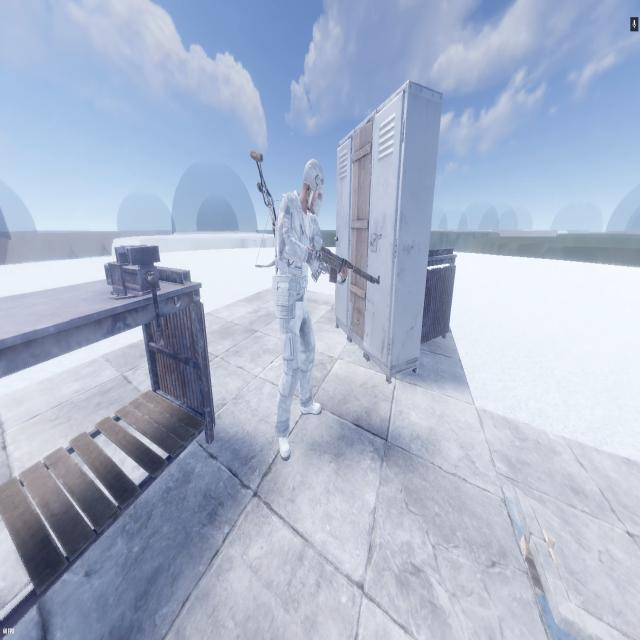Player: (272, 155, 341, 468)
